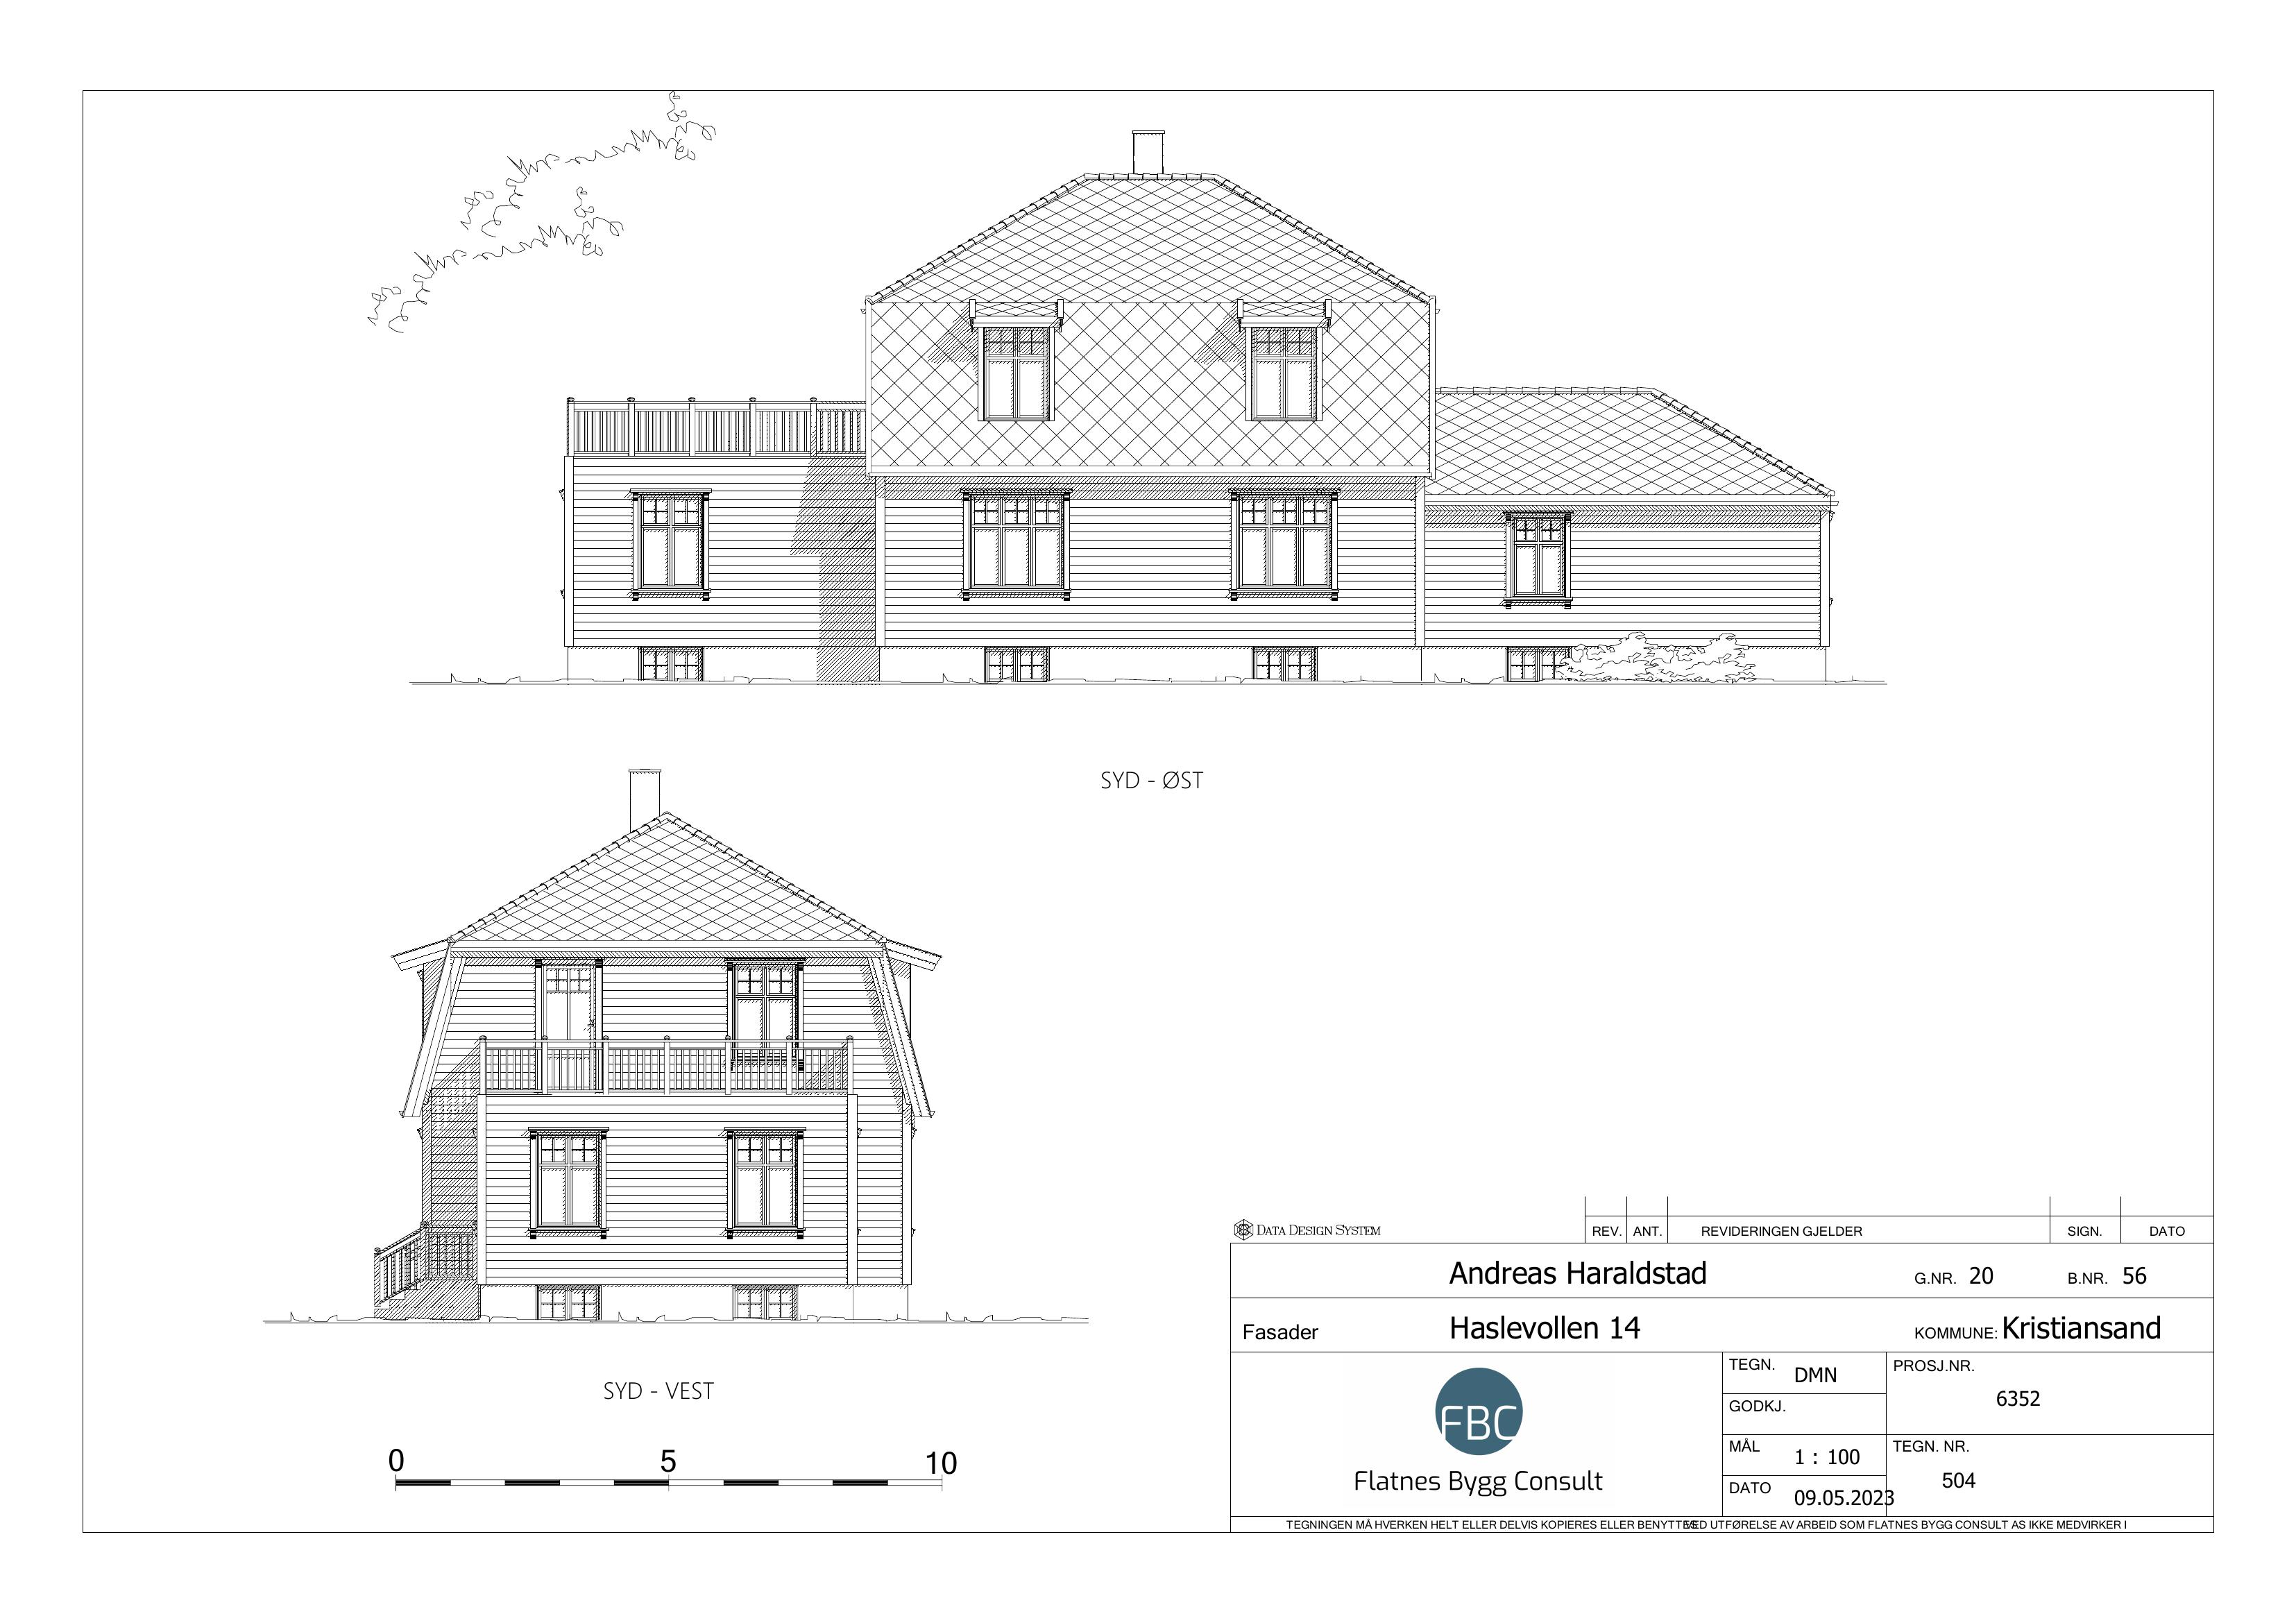fasade: (569, 139, 1835, 690), (376, 767, 939, 1343)
